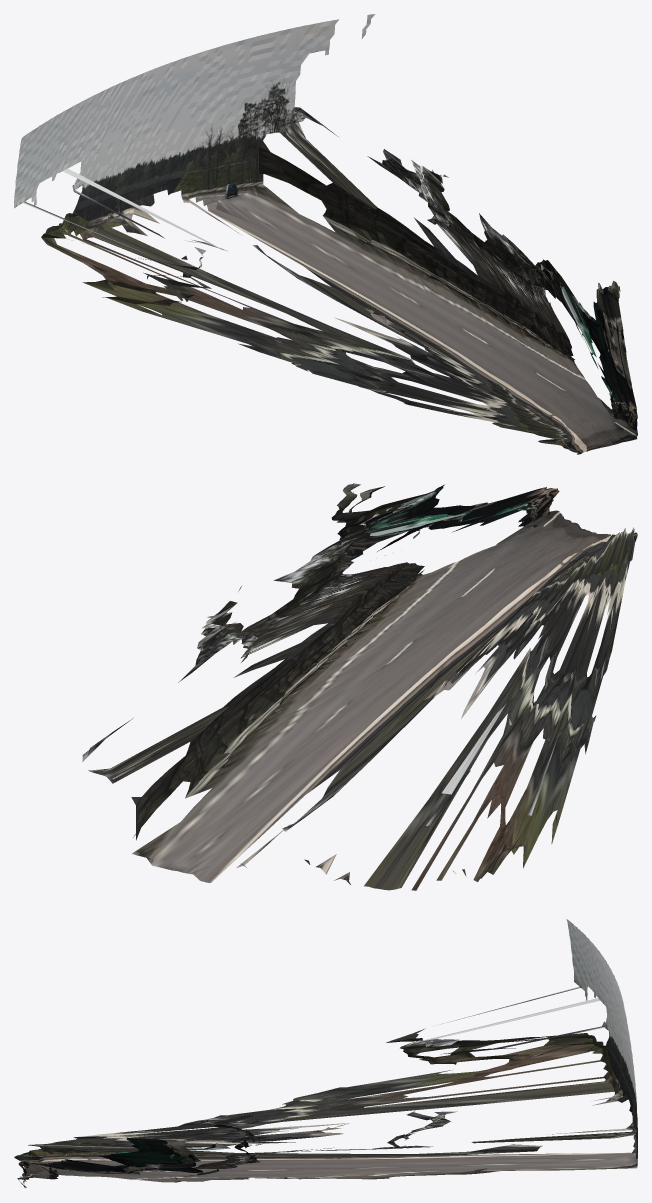
3 views of the same model, one above another, from view 1: azimuth 30°, elevation 25°; view 2: azimuth 150°, elevation 25°; view 3: azimuth 270°, elevation 25° (orthographic). The views are drawn at different scales.
Parts seen in each view (by area): view 1: defaultobject; view 2: defaultobject; view 3: defaultobject.
Boxes of the visible parts, left/top/right/bottom form: defaultobject: left=14, top=14, right=637, bottom=454; defaultobject: left=82, top=483, right=637, bottom=890; defaultobject: left=14, top=919, right=637, bottom=1187.
Bounding box in the file's own units: 28.39 × 11.76 × 44.9.
1 material, 1 textured.
